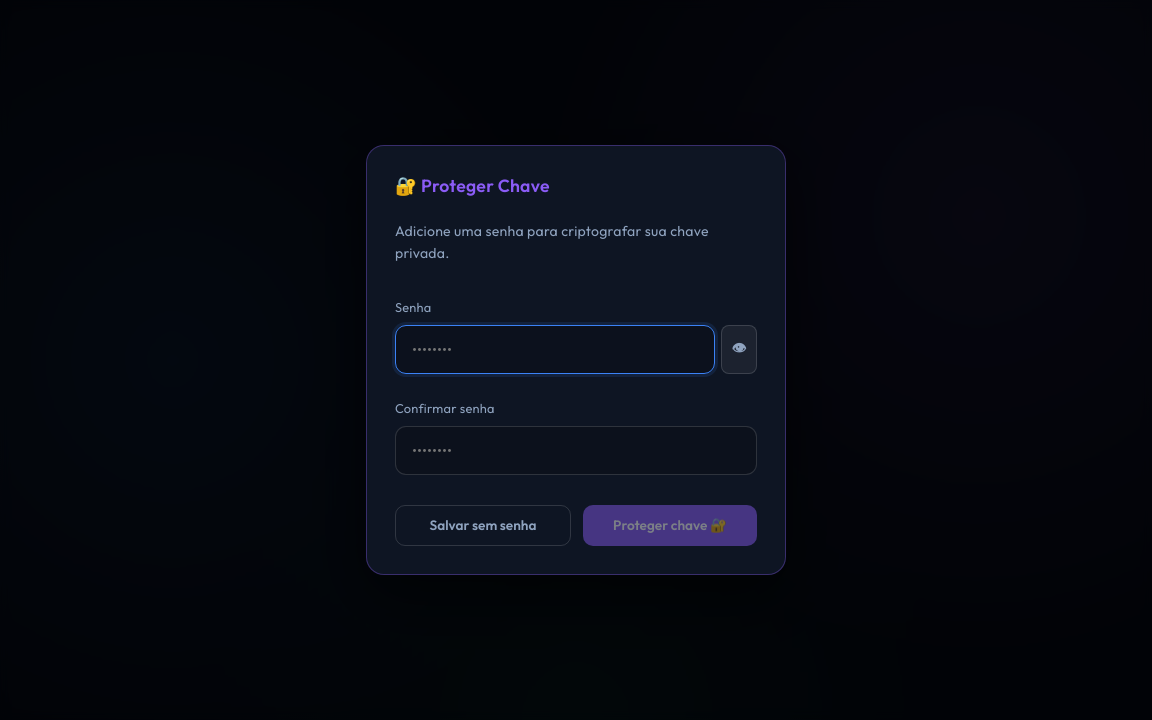
Test: KeyProtectionModal — validação › deve exibir erro quando senhas não coincidem
This screenshot has width=1152, height=720.
Type "senha123" into the 1st password field with placeholder "••••••••" at point(555, 350), box [395,325,715,374]
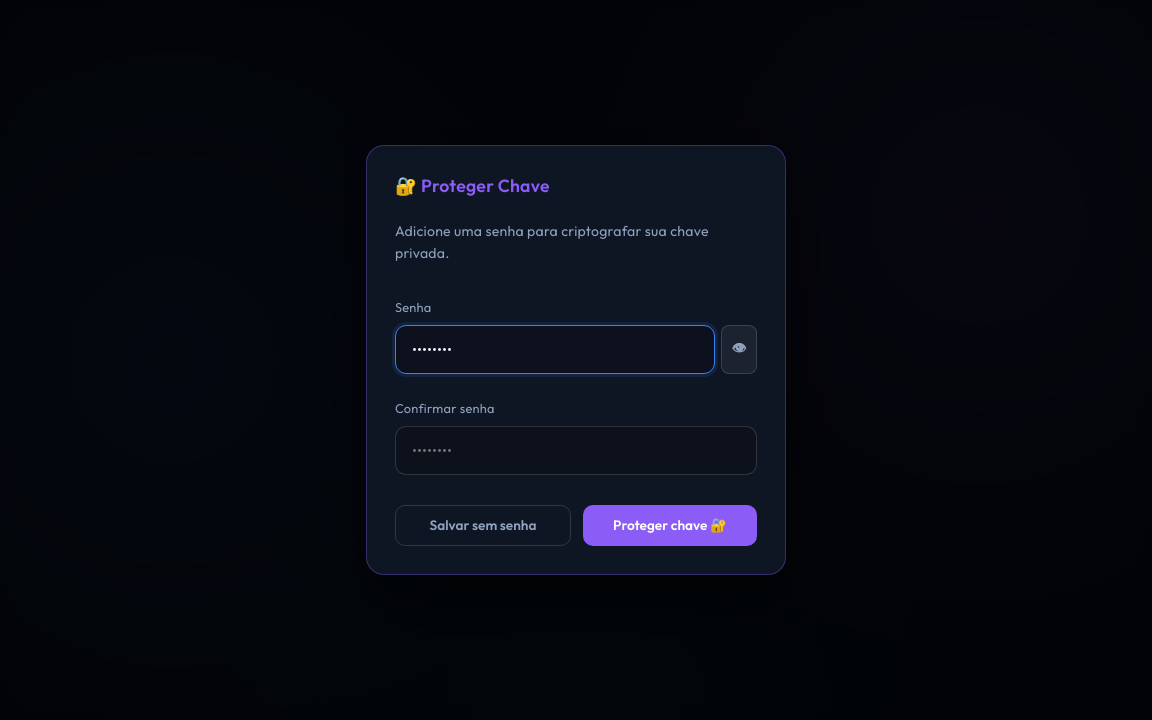
Type "senhaXXX" into the password field with placeholder "••••••••" at point(576, 450), box [395,426,757,475]
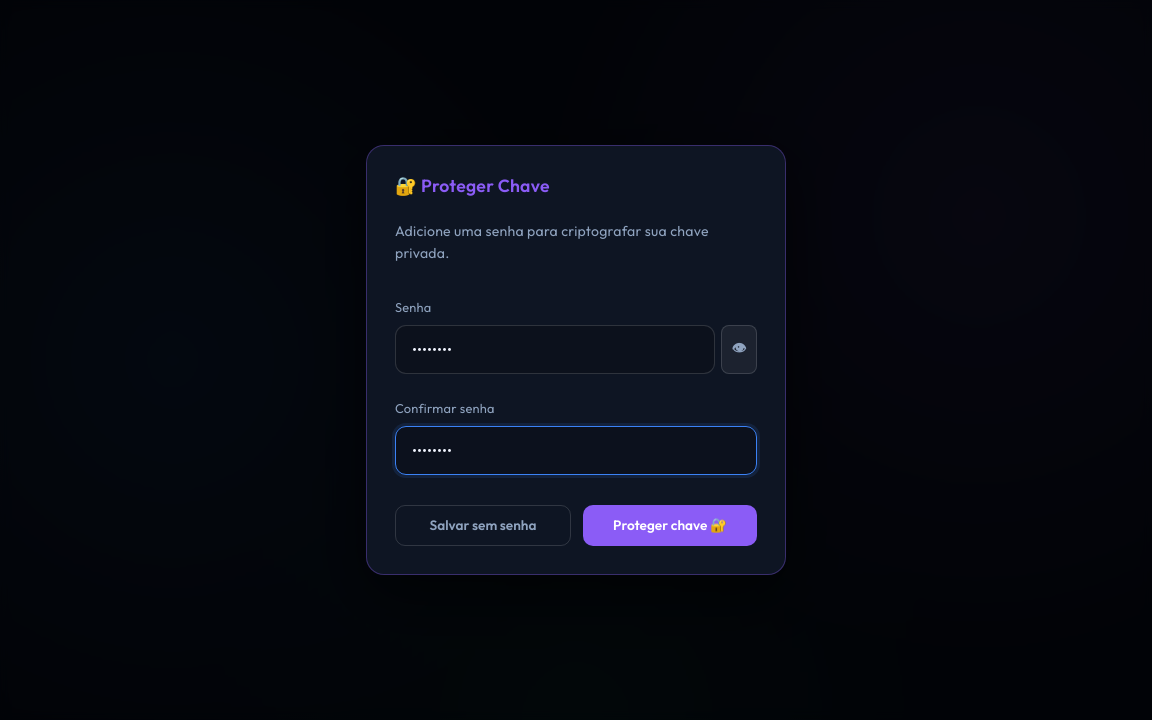
Click the button "Proteger chave 🔐" at point(670, 525), box [583,505,757,546]
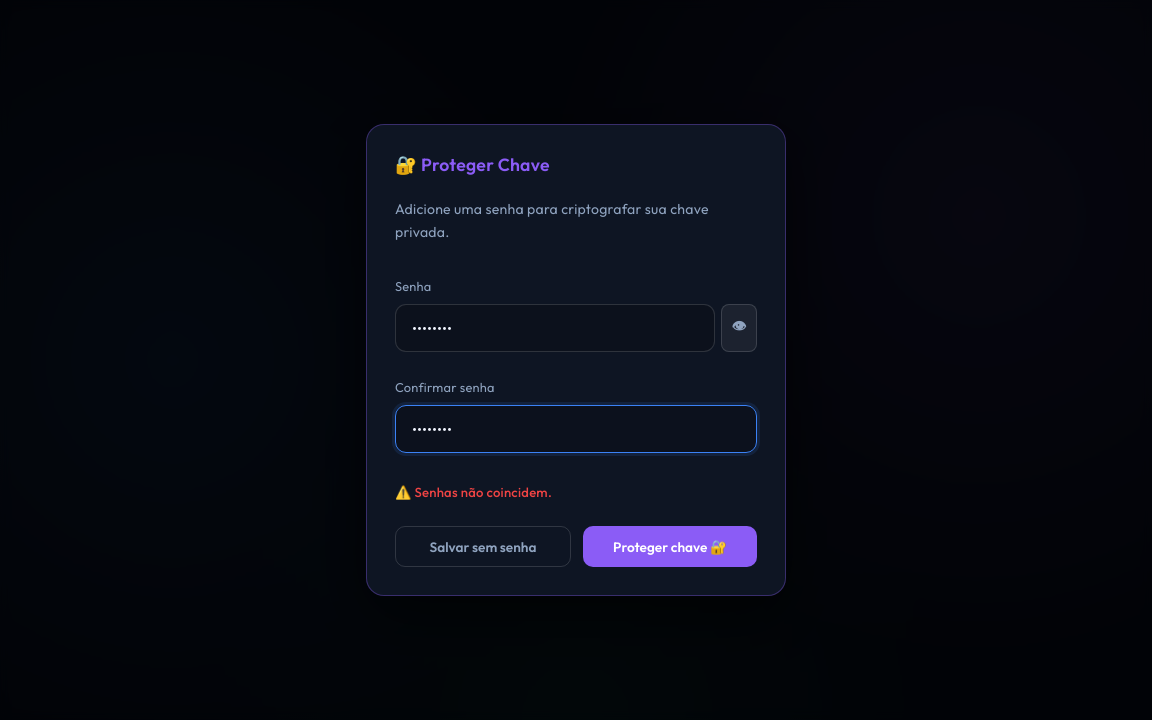
expect the text "⚠️ Senhas não coincidem." is shown: met, box [395,484,552,500]
